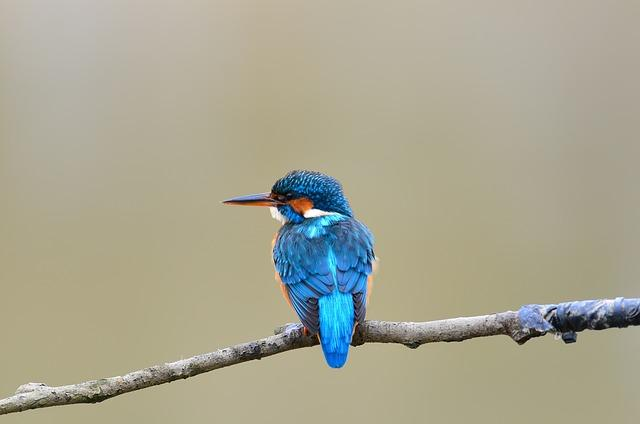bird: (227, 170, 375, 367)
